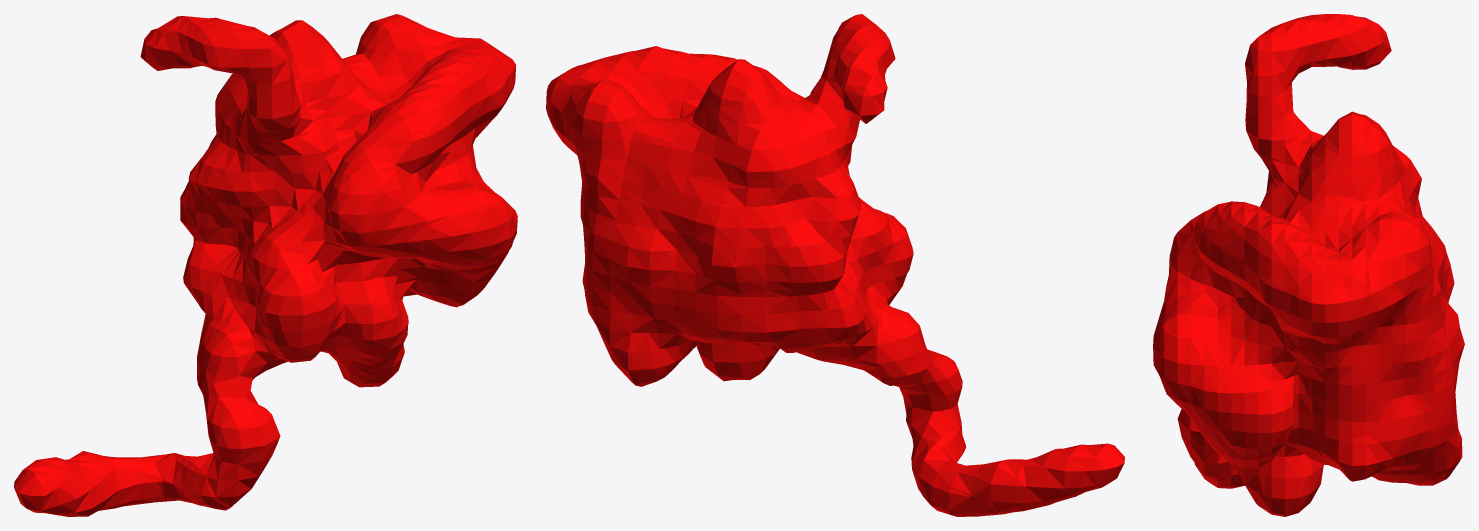
The model's file is ghxP_coarse.dae.
3 views of the same model, side by side, from view 1: azimuth 30°, elevation 25°; view 2: azimuth 150°, elevation 25°; view 3: azimuth 270°, elevation 25° (orthographic). The views are drawn at different scales.
Parts seen in each view (by area): view 1: ghxP; view 2: ghxP; view 3: ghxP.
Boxes of the visible parts, x1=… form: ghxP: x1=14, y1=14, x2=517, y2=516; ghxP: x1=546, y1=14, x2=1124, y2=516; ghxP: x1=1153, y1=14, x2=1464, y2=516.
Size of the model in its own units: 107 by 88.47 by 50.2.
